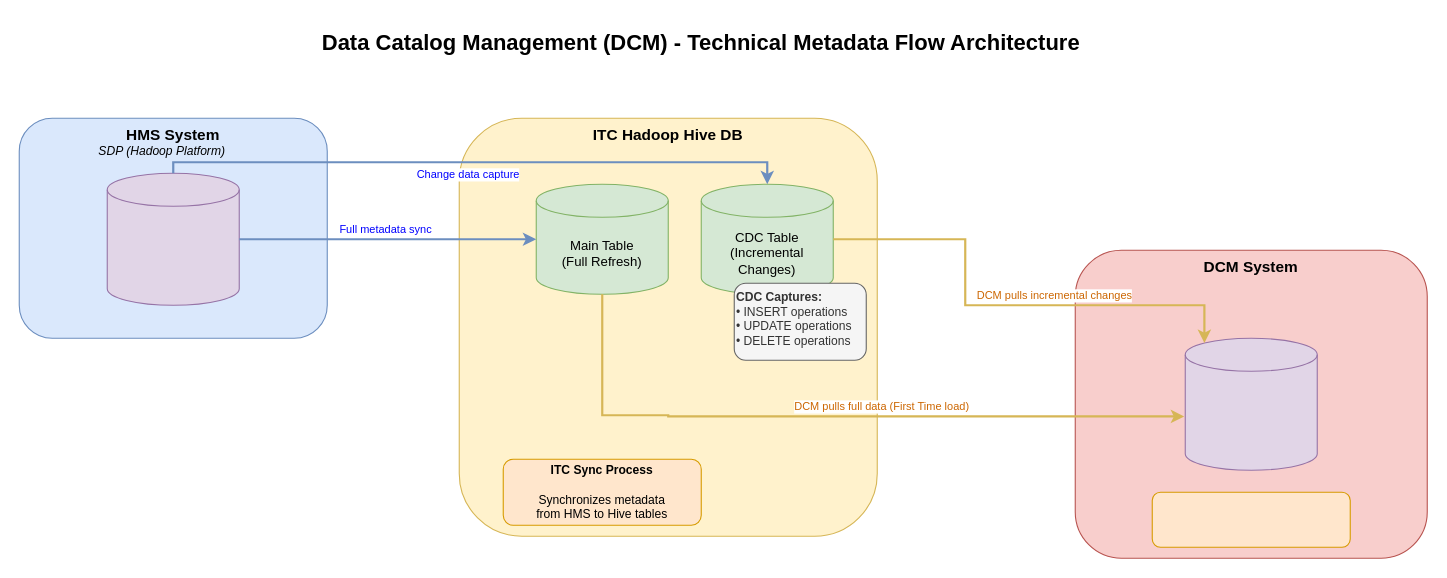
Some shapes in this 1447 by 578 pixel diagram are drawn without their labels. The shapes that lost their labels are listed below. From the top down, each one's centre as x and y in pixels, then its label:
At [172,238]: "Hive Metastore (PostgreSQL)".
At [1250,403]: "DCM Oracle Database".
At [1250,519]: "DCM Pull Process Extracts and syncs metadata to Oracle DB".
